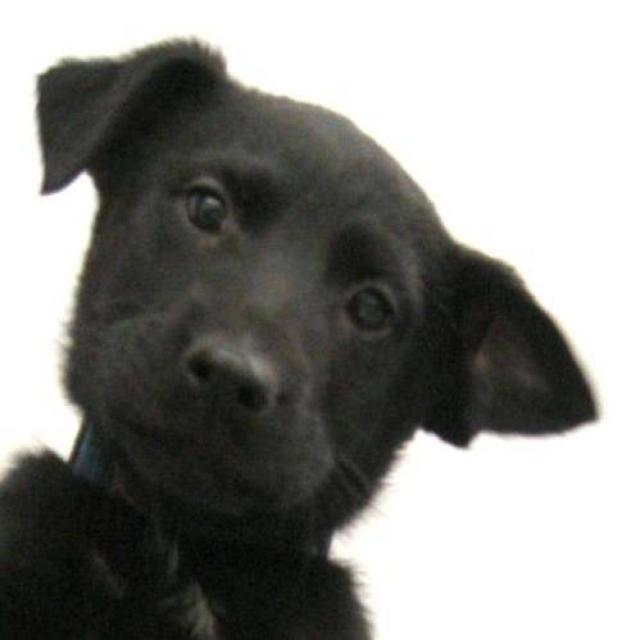dog: (0, 34, 600, 638)
